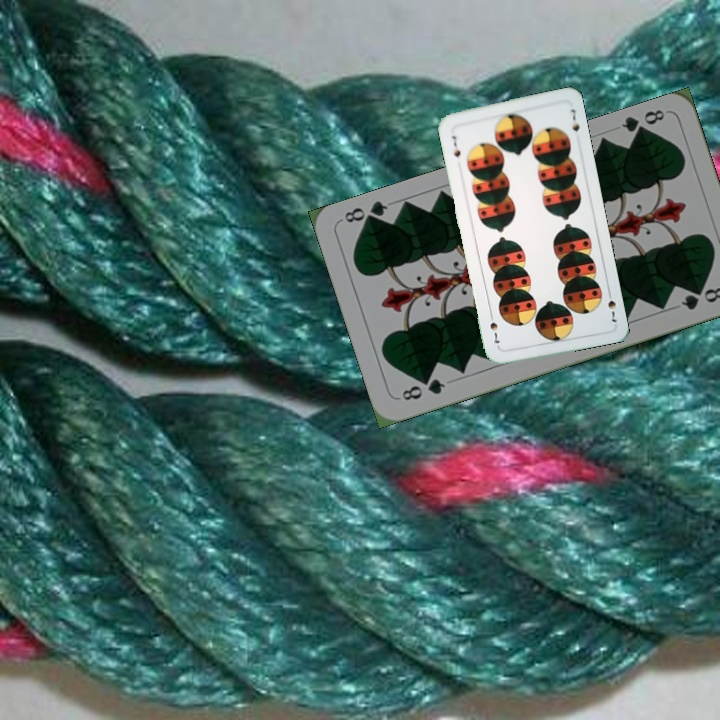G8: (617, 105, 667, 141), (397, 374, 448, 404)
S7: (604, 286, 620, 327), (447, 132, 463, 162)
